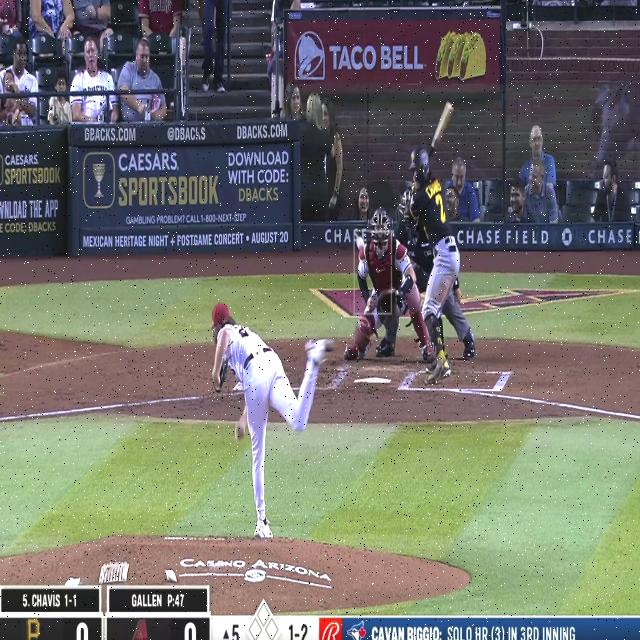baseball: (356, 236, 364, 250)
